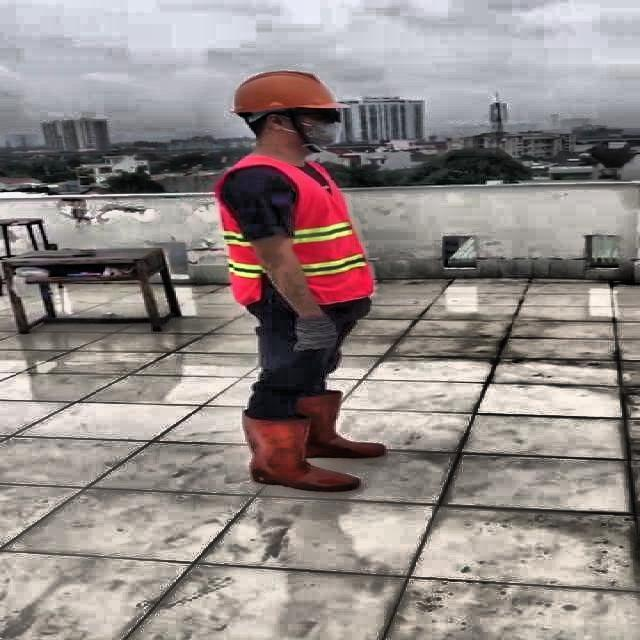safety_helmet: (228, 68, 346, 116)
safety_jacket: (218, 156, 376, 304)
